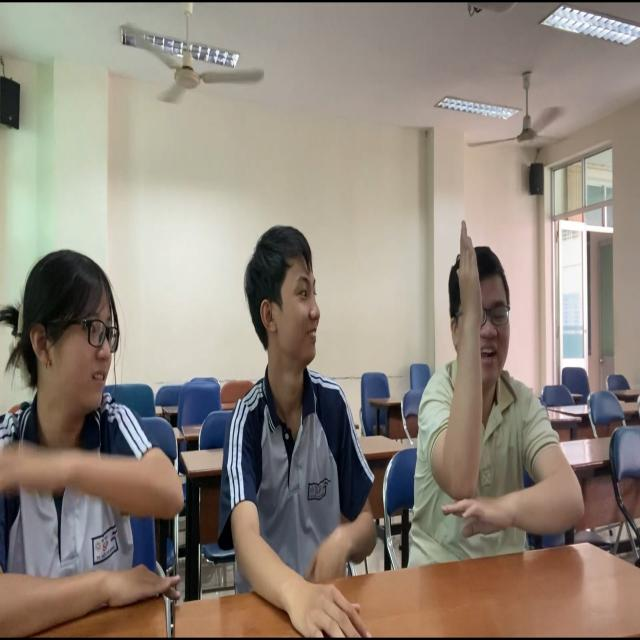raise_hand: (406, 207, 593, 640)
